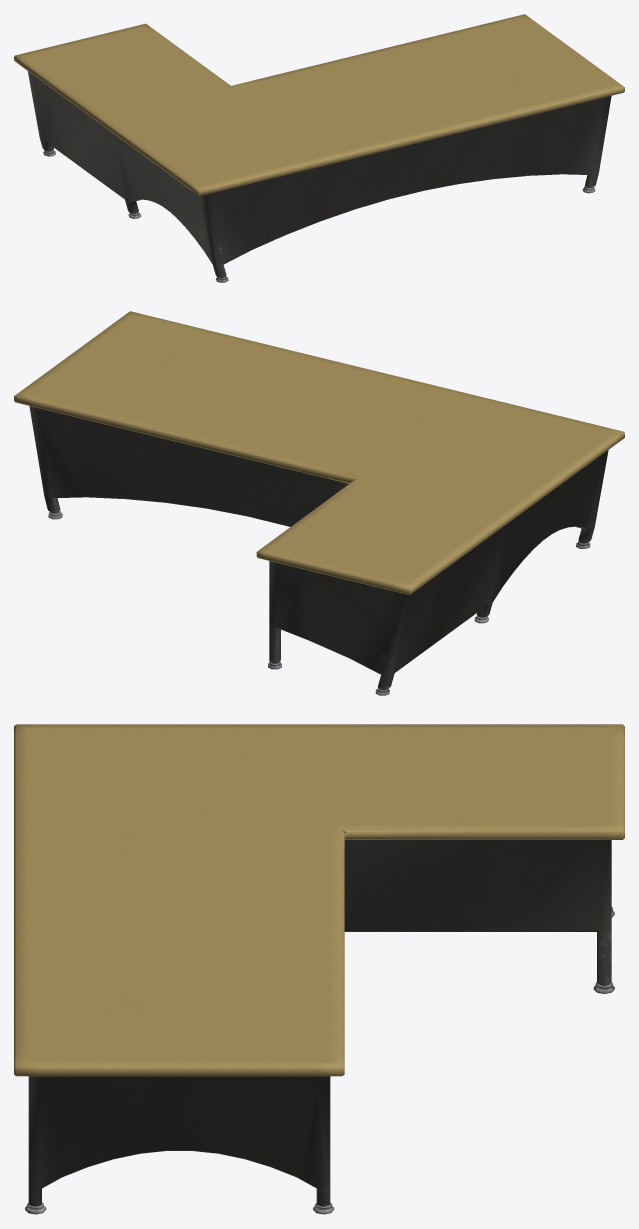
3 renders of one model, top to bottom at view 1: azimuth 30°, elevation 25°; view 2: azimuth 150°, elevation 25°; view 3: azimuth 270°, elevation 25°, orthographic. The views are drawn at different scales.
Parts seen in each view (by area): view 1: TF2_FS_MainDesk; view 2: TF2_FS_MainDesk; view 3: TF2_FS_MainDesk.
Part boxes in pixels (left/top/right/bottom): TF2_FS_MainDesk: left=14, top=14, right=624, bottom=282; TF2_FS_MainDesk: left=14, top=311, right=624, bottom=695; TF2_FS_MainDesk: left=14, top=724, right=624, bottom=1214.
Bounding box in the file's own units: 290 × 65.96 × 218.
Materials: 1 (1 with a texture image).
